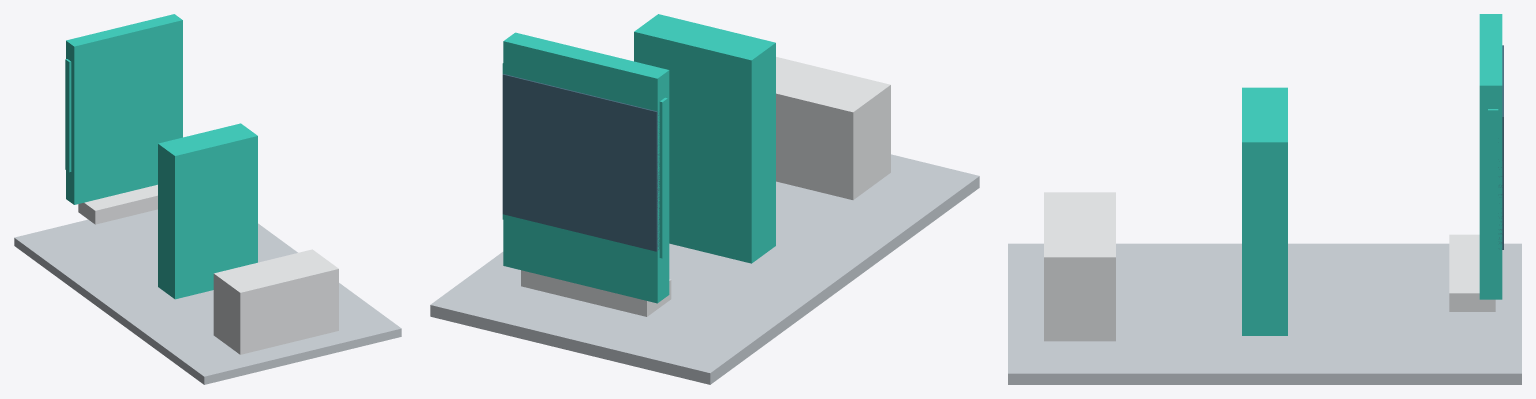
3 renders of one model, left to right at view 1: azimuth 30°, elevation 25°; view 2: azimuth 150°, elevation 25°; view 3: azimuth 270°, elevation 25°, orthographic. The views are drawn at different scales.
Visible parts, largest first — view 1: Exhibition Booth Concept; view 2: Exhibition Booth Concept; view 3: Exhibition Booth Concept.
Boxes of the visible parts, bbox=[...] form: Exhibition Booth Concept: bbox=[14, 14, 401, 384]; Exhibition Booth Concept: bbox=[430, 14, 979, 384]; Exhibition Booth Concept: bbox=[1008, 14, 1521, 384].
Bounding box in the file's own units: 3 × 2.9 × 5.
